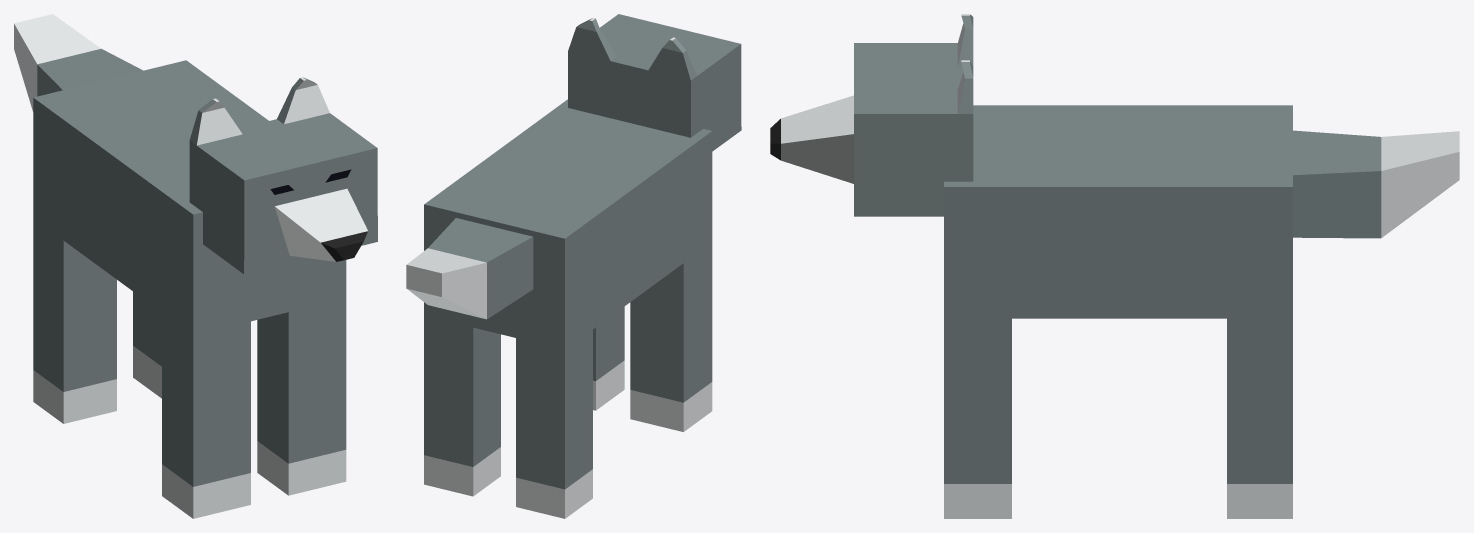
File: gigaWolf.fbx
The picture shows the model from 3 angles, left to right: view 1: azimuth 30°, elevation 25°; view 2: azimuth 150°, elevation 25°; view 3: azimuth 270°, elevation 25°; orthographic projection. The views are drawn at different scales.
Visible parts, largest first — view 1: Wolf2; view 2: Wolf2; view 3: Wolf2.
Part boxes in pixels (x1=…): Wolf2: x1=14, y1=14, x2=377, y2=518; Wolf2: x1=406, y1=14, x2=741, y2=518; Wolf2: x1=770, y1=14, x2=1459, y2=518.
Size of the model in its own units: 72.65 by 183 by 260.
